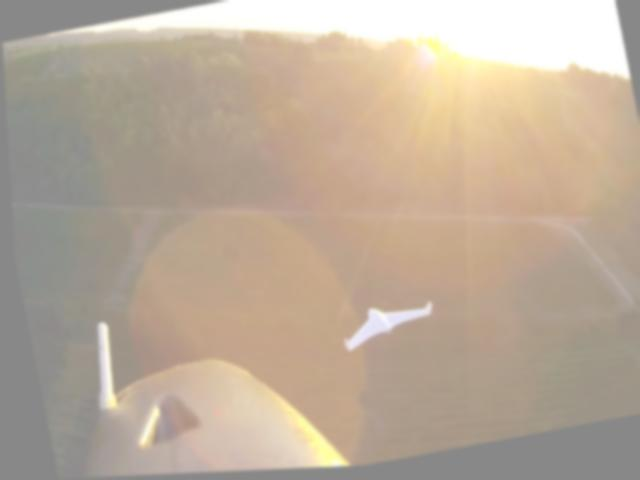plane: (333, 299, 435, 355)
